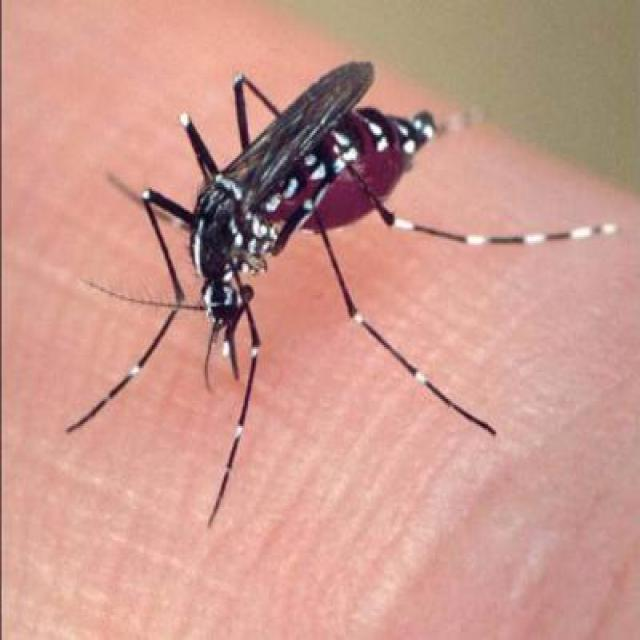antennae: (75, 262, 216, 324)
body: (201, 58, 431, 320)
insect: (64, 58, 617, 528)
legs: (304, 161, 617, 441), (65, 186, 195, 440), (144, 62, 281, 222), (203, 259, 263, 523)
wings: (198, 60, 372, 209)
